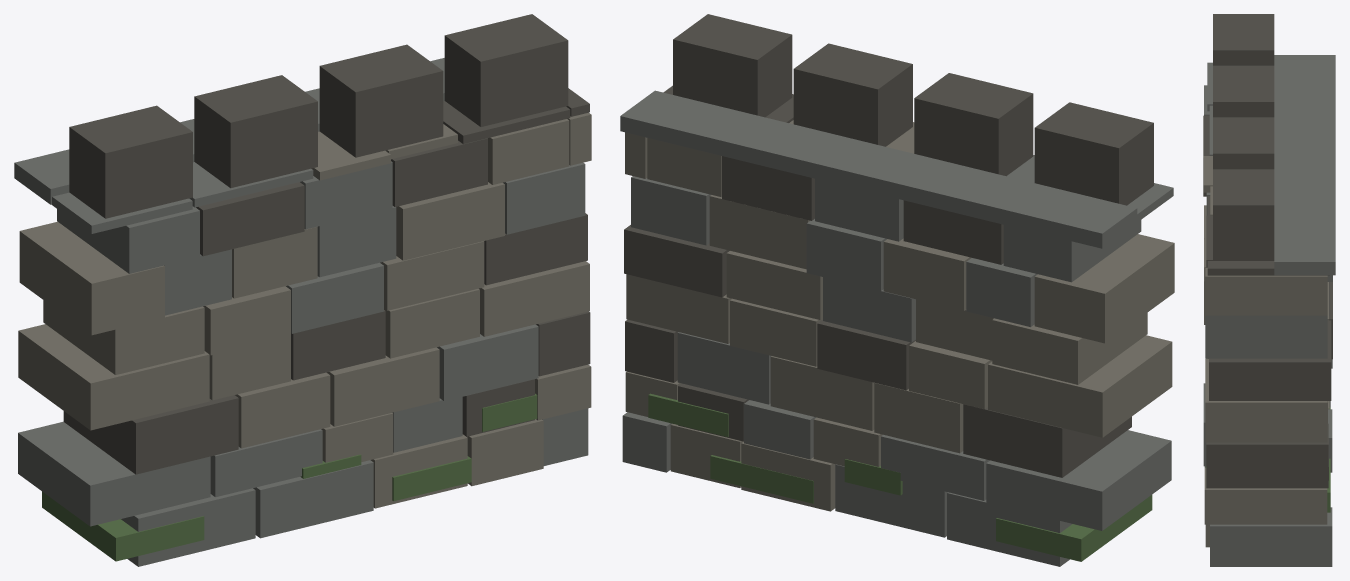
Rendered from sanseong_wall_straight.glb.
The picture shows the model from 3 angles, left to right: view 1: azimuth 30°, elevation 25°; view 2: azimuth 150°, elevation 25°; view 3: azimuth 270°, elevation 25°; orthographic projection. The views are drawn at different scales.
Parts seen in each view (by area): view 1: sanseong_wall_straight; view 2: sanseong_wall_straight; view 3: sanseong_wall_straight.
Boxes of the visible parts, x1,y1,x2,y2 form: sanseong_wall_straight: (14,14,591,566); sanseong_wall_straight: (620,14,1174,566); sanseong_wall_straight: (1203,14,1335,566).
Size of the model in its own units: 4 by 3.19 by 1.08.
